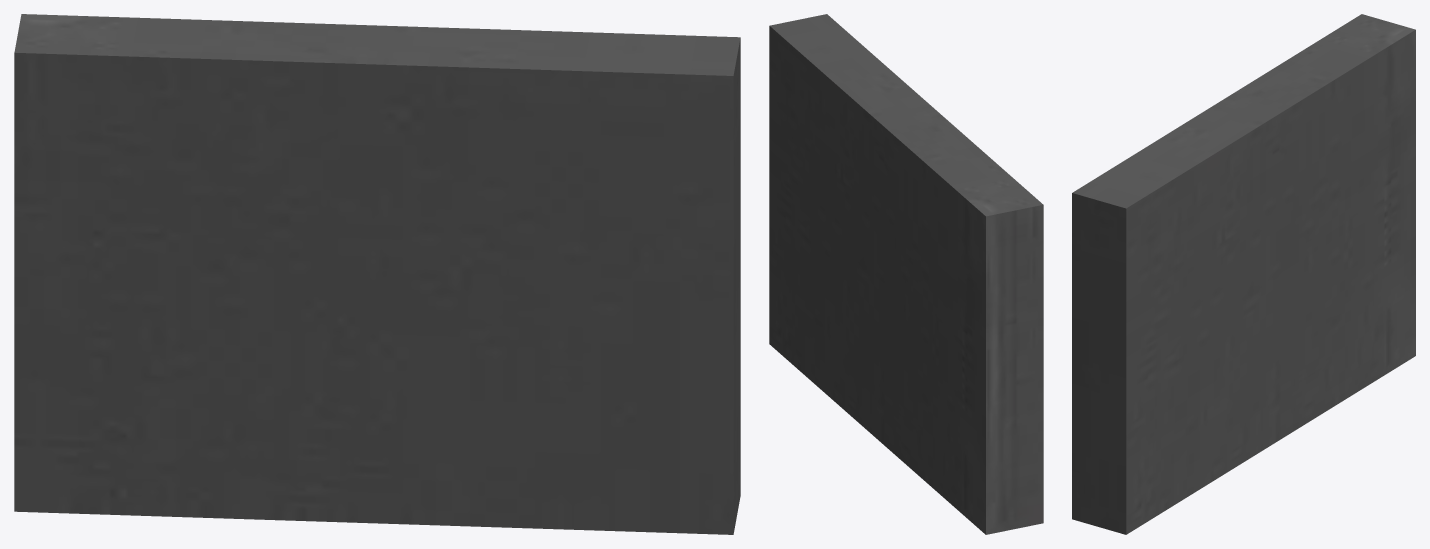
The model's file is support_arm__arm_body.glb.
The picture shows the model from 3 angles, left to right: view 1: azimuth 30°, elevation 25°; view 2: azimuth 150°, elevation 25°; view 3: azimuth 270°, elevation 25°; orthographic projection. The views are drawn at different scales.
Parts seen in each view (by area): view 1: world; view 2: world; view 3: world.
Part boxes in pixels (left/top/right/bottom): world: left=14, top=14, right=740, bottom=534; world: left=769, top=14, right=1043, bottom=534; world: left=1072, top=14, right=1415, bottom=534.
Bounding box in the file's own units: 0.2109 × 0.165 × 0.1575.
1 material, 1 textured.
